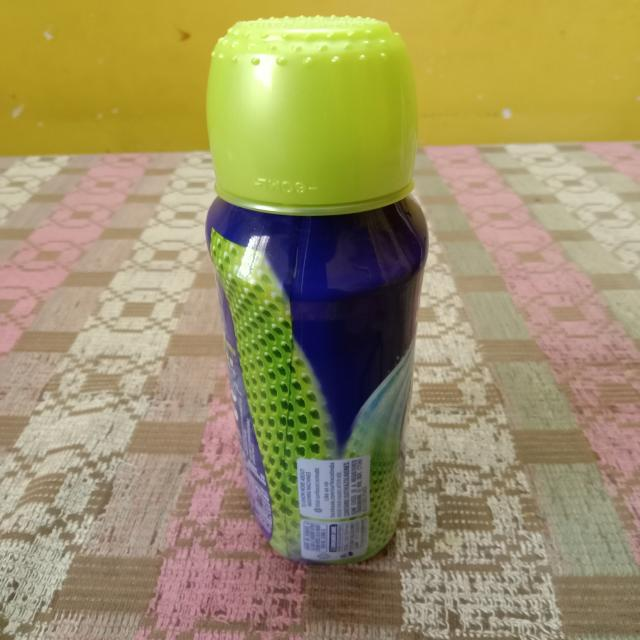detergent: (189, 8, 462, 576)
